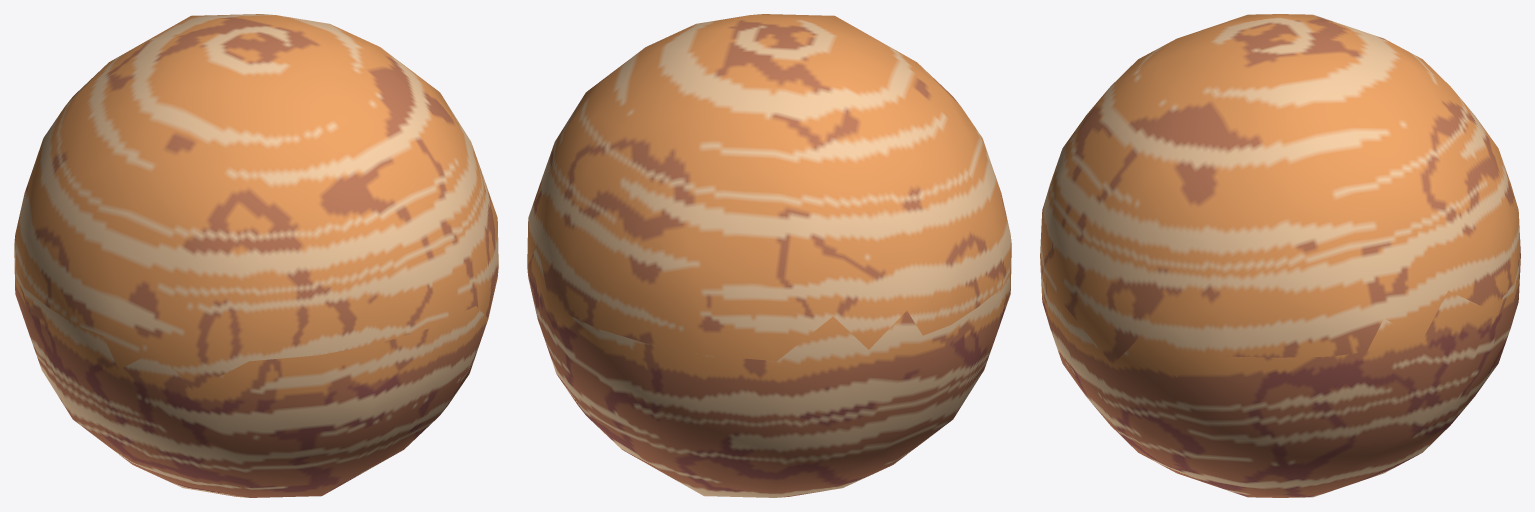
Rendered from model_planet_large.obj.
3 renders of one model, left to right at view 1: azimuth 30°, elevation 25°; view 2: azimuth 150°, elevation 25°; view 3: azimuth 270°, elevation 25°, orthographic.
Visible parts, largest first — view 1: obj_planet_0; view 2: obj_planet_0; view 3: obj_planet_0.
Boxes of the visible parts, bbox=[...] form: obj_planet_0: bbox=[14, 14, 498, 497]; obj_planet_0: bbox=[527, 14, 1011, 497]; obj_planet_0: bbox=[1040, 14, 1520, 497].
Bounding box in the file's own units: 36.4 × 36.4 × 36.4.
1 material, 1 textured.
